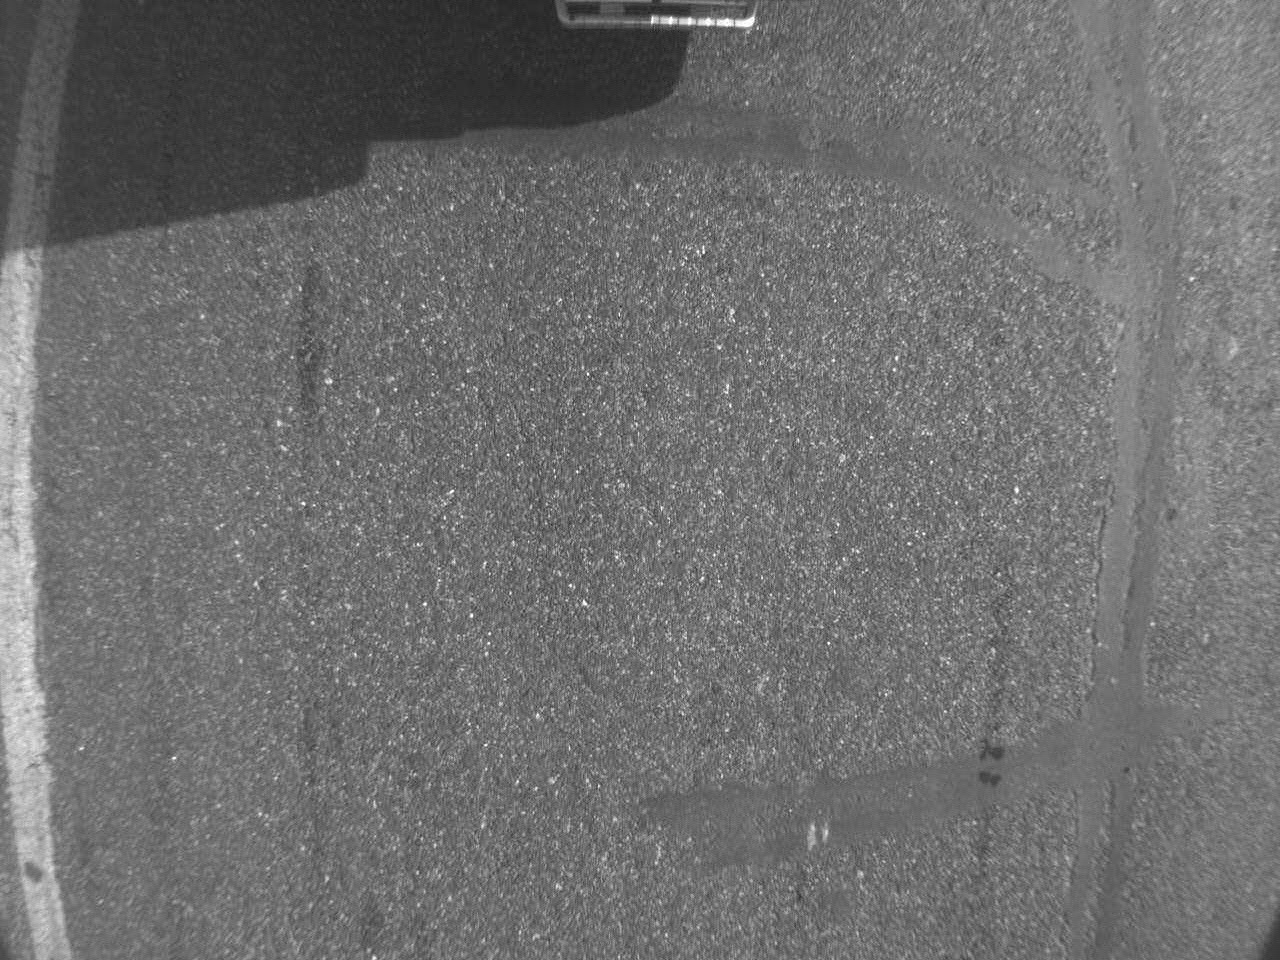sealed: (1076, 1, 1192, 953)
